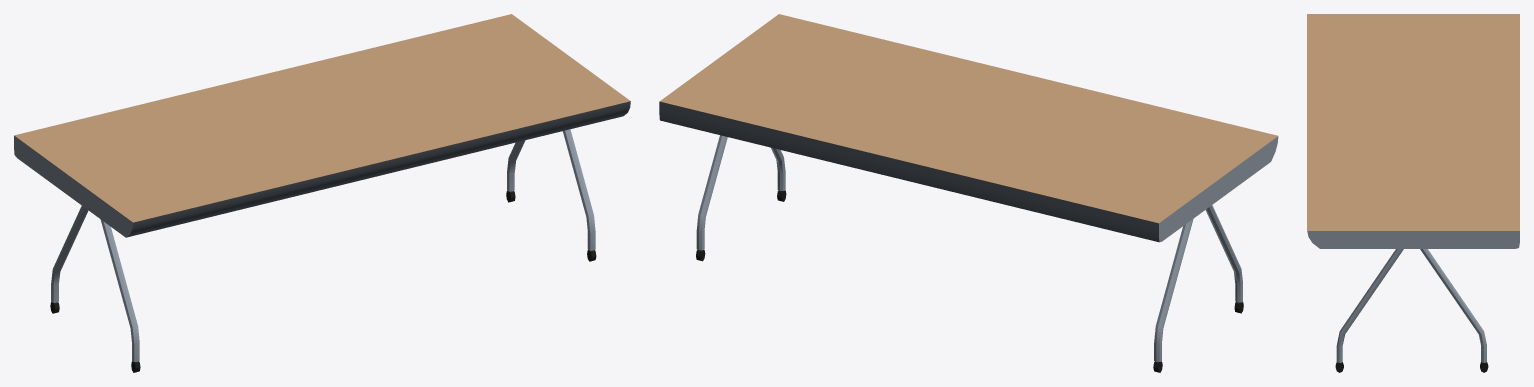
Rendered from multimedia_dvd_desk.fbx.
3 renders of one model, left to right at view 1: azimuth 30°, elevation 25°; view 2: azimuth 150°, elevation 25°; view 3: azimuth 270°, elevation 25°, orthographic. The views are drawn at different scales.
Visible parts, largest first — view 1: multimedia_dvd_desk; view 2: multimedia_dvd_desk; view 3: multimedia_dvd_desk.
Part boxes in pixels (x1,y1,x2,y2): multimedia_dvd_desk: [14, 14, 630, 372]; multimedia_dvd_desk: [659, 14, 1278, 372]; multimedia_dvd_desk: [1307, 14, 1519, 372].
Bounding box in the file's own units: 0.0149 × 0.0048 × 0.00616.
Materials: 1 (1 with a texture image).
